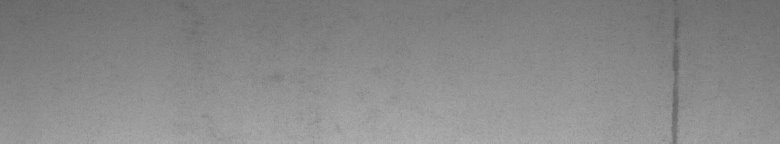hd: (668, 18, 684, 136)
